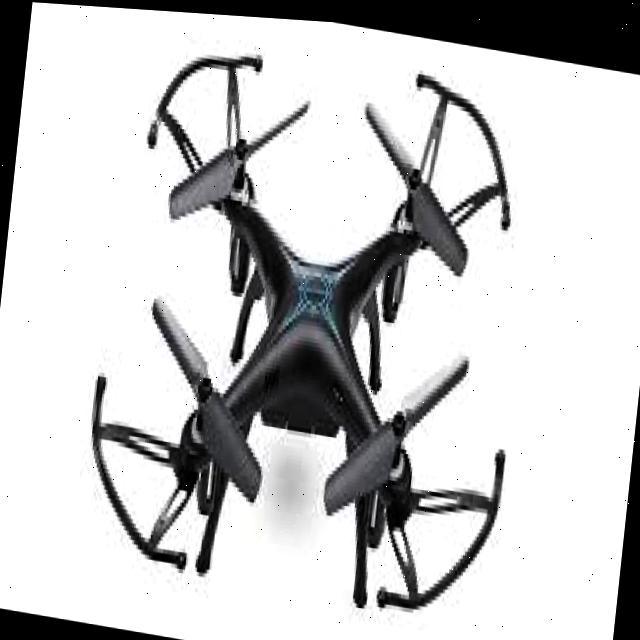drone: (62, 3, 559, 640)
